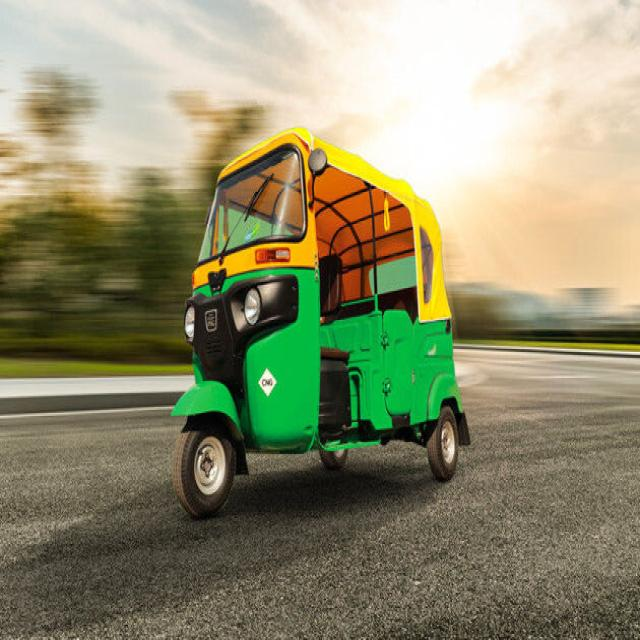autorickshaw: (173, 129, 470, 518)
